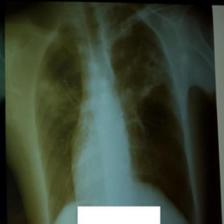tuberculosis: (33, 12, 197, 222)
